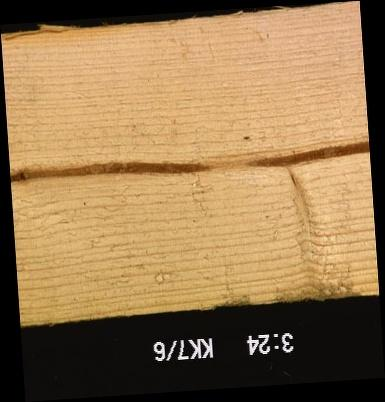wave: (0, 23, 88, 41)
